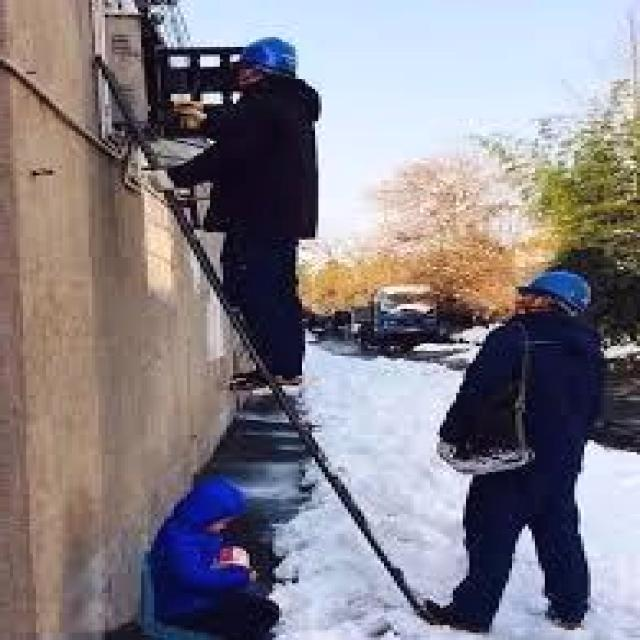head_helmet: (535, 274, 594, 302), (246, 35, 299, 64)
person: (423, 272, 604, 632), (161, 32, 325, 393), (148, 475, 279, 630)
